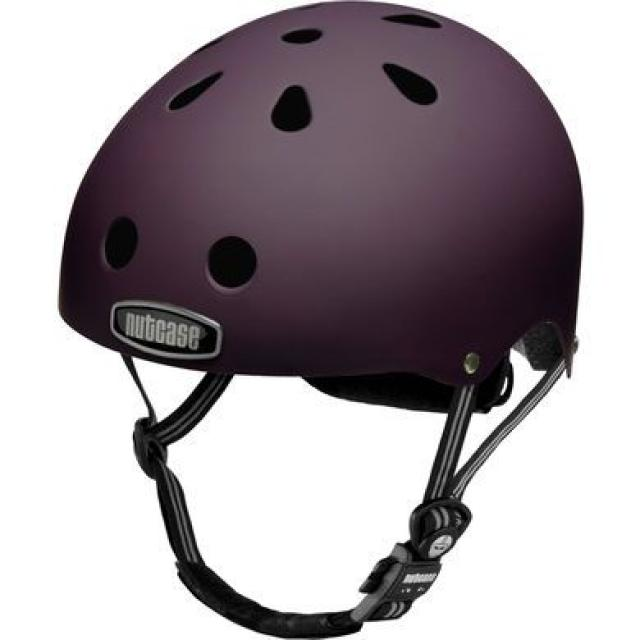Helmet: (58, 0, 586, 415)
